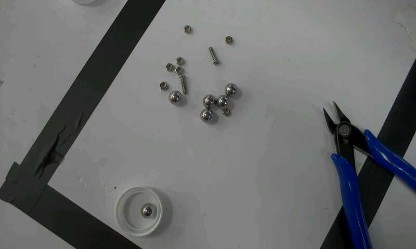ironball: (167, 89, 182, 104), (224, 82, 237, 97), (202, 93, 215, 108), (141, 205, 156, 218), (215, 94, 228, 108), (199, 108, 213, 121)
